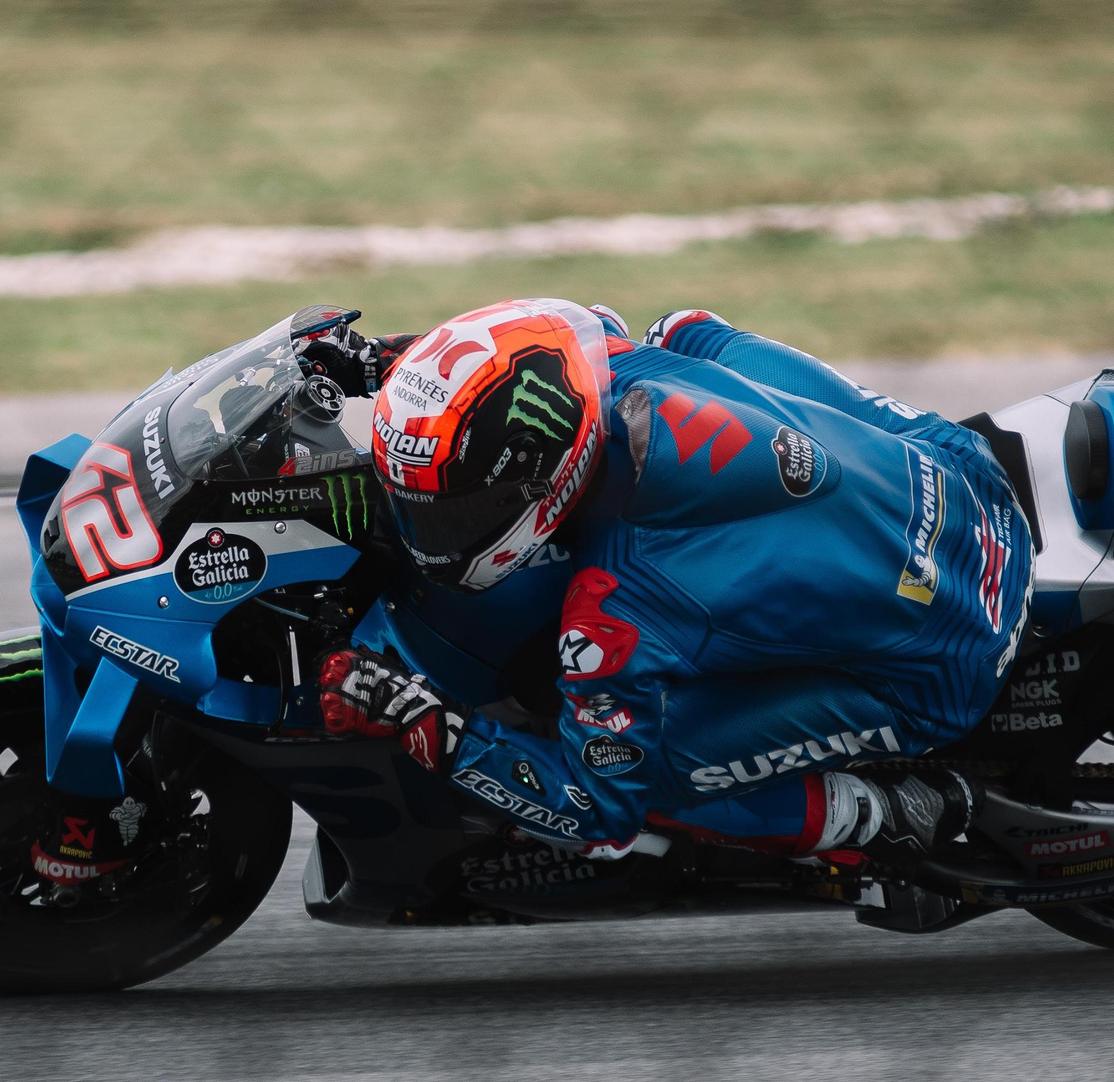helmet: (370, 297, 613, 598)
